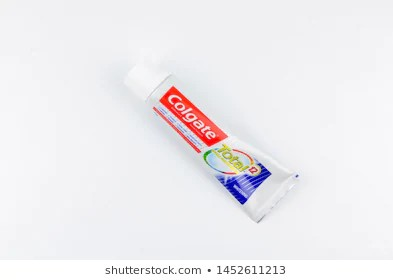colgate-total-150gm: (117, 53, 306, 226)
